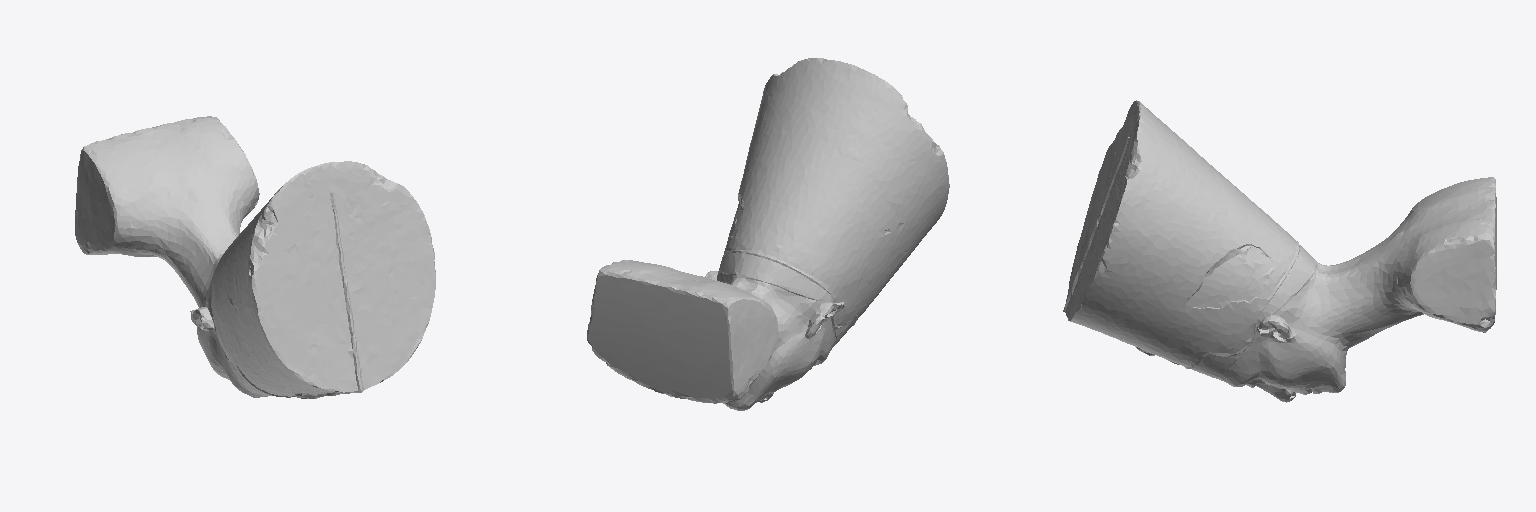
Rendered from Nefertiti-10K.obj.
The picture shows the model from 3 angles: view 1: azimuth 30°, elevation 25°; view 2: azimuth 150°, elevation 25°; view 3: azimuth 270°, elevation 25°; orthographic projection.
Size of the model in its own units: 239 by 363 by 495.